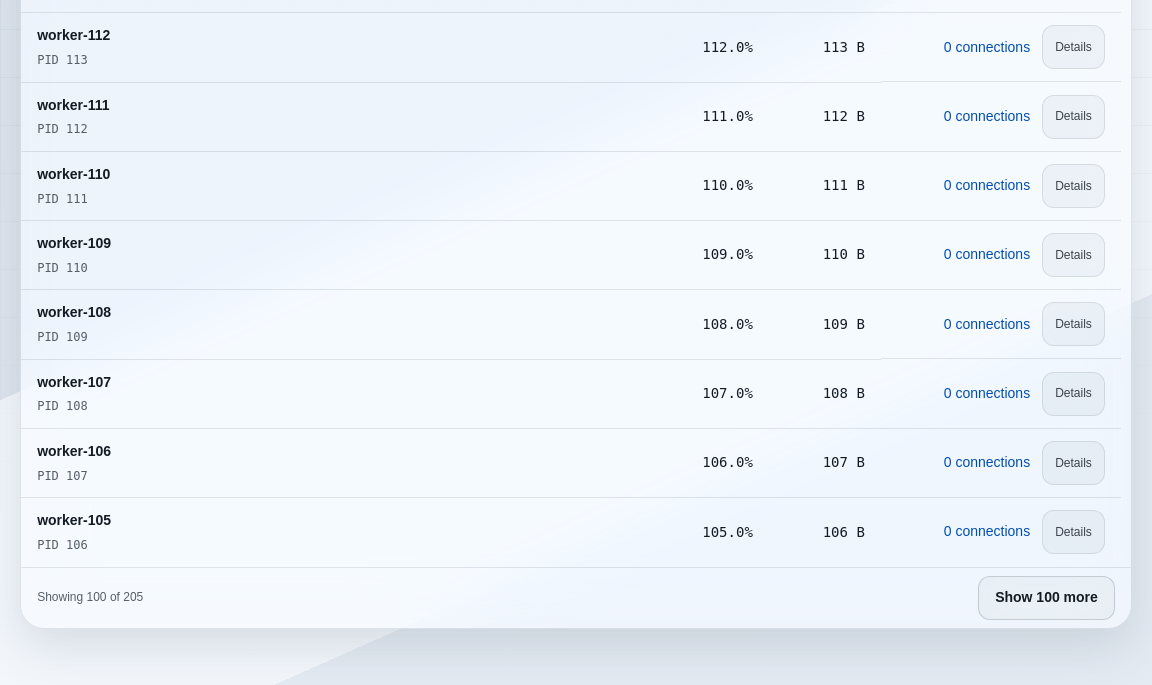
Test: Processes network-connection filtering › filters locally and renders process rows in batches of 100
(page scrolled)
Step 1. Click the button "Show 100 more" → (1046, 598), box [978,576,1115,620]
(page scrolled)
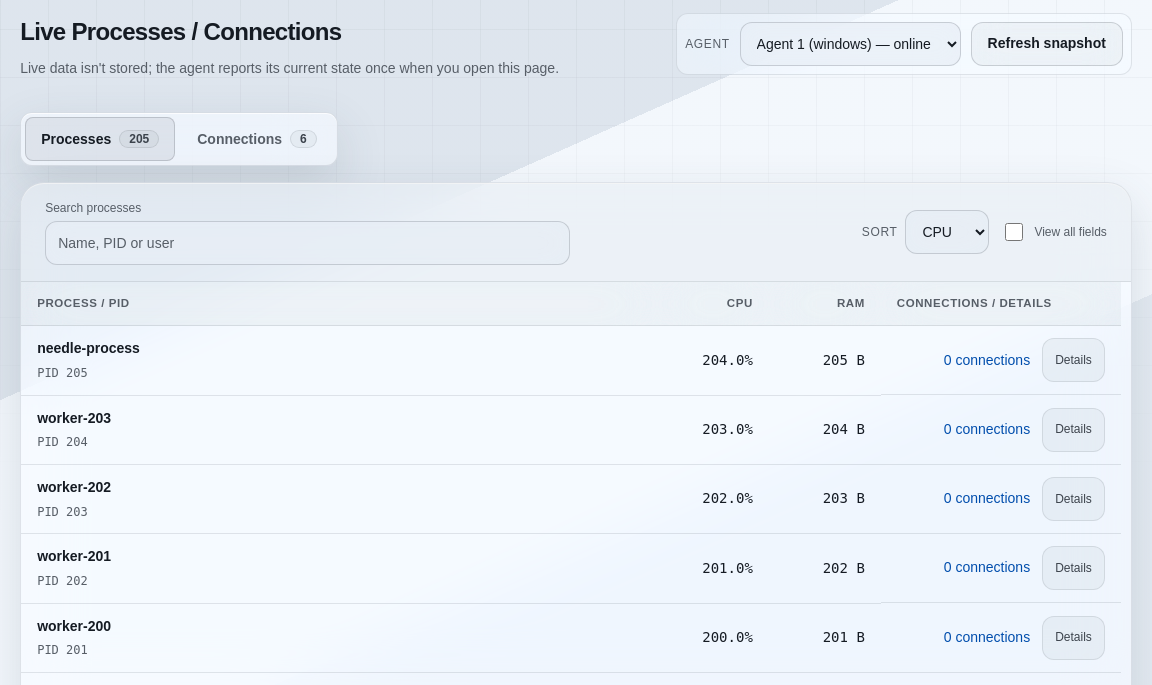
Result: the number of rows with class "summary-row" is 200
Step 2. Type "needle" into the search field labelled "Search processes" → (307, 244), box [45,222,570,266]
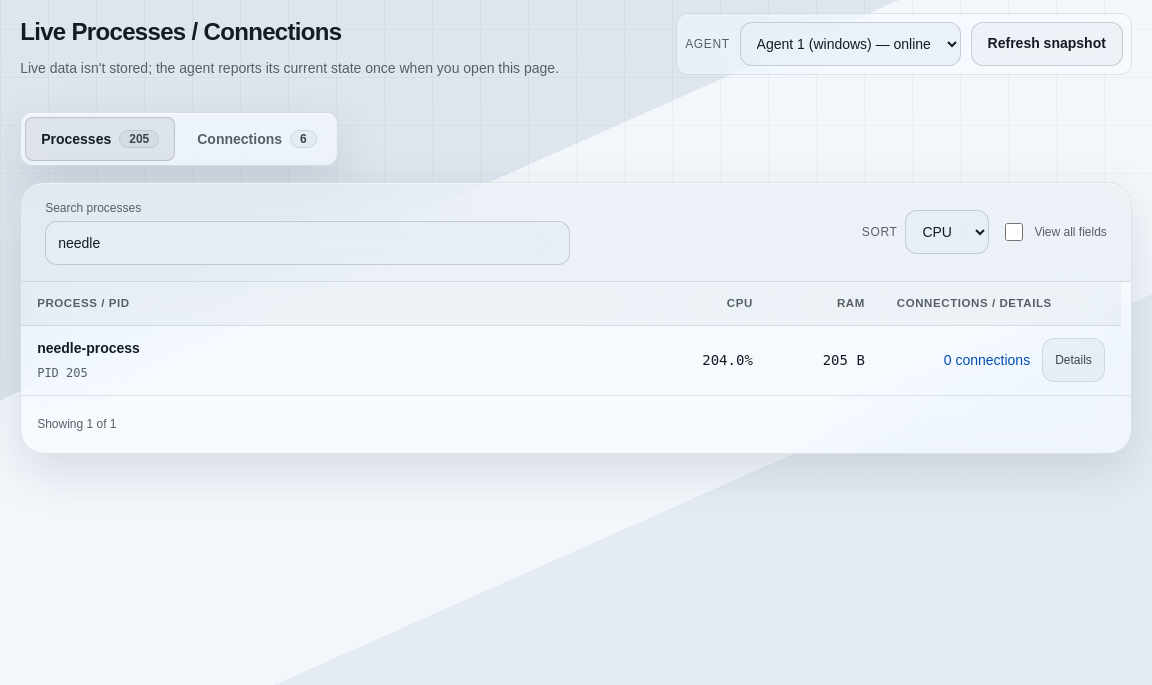
Expected: the row with class "summary-row" shows "needle-process", [37,340,140,356]
Result: the number of rows with class "summary-row" is 1 at [21,326,1121,395]
